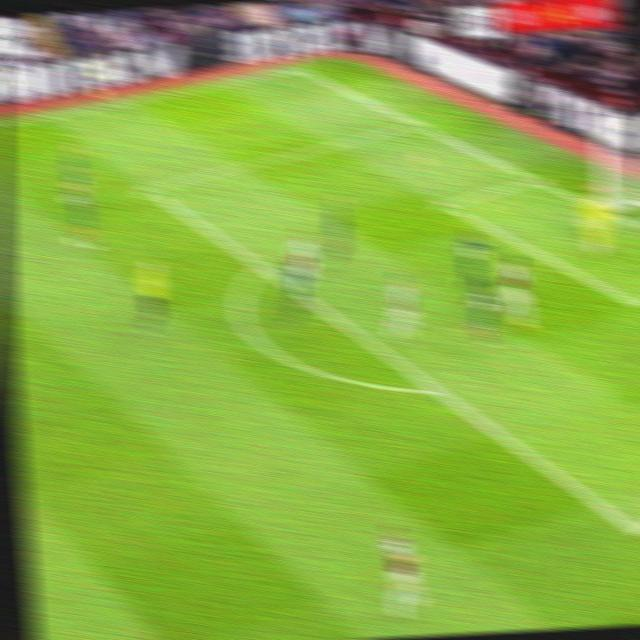bigarea_top_inner: (136, 175, 163, 202)
bigarea_top_outter: (407, 115, 431, 133)
bottom_arc_area_intersection: (424, 376, 451, 404)
corner: (284, 61, 310, 75)
smallarea_top_inner: (434, 194, 460, 216)
smallarea_top_outter: (525, 168, 550, 192)
top_arc_area_intersection: (250, 256, 275, 278)
